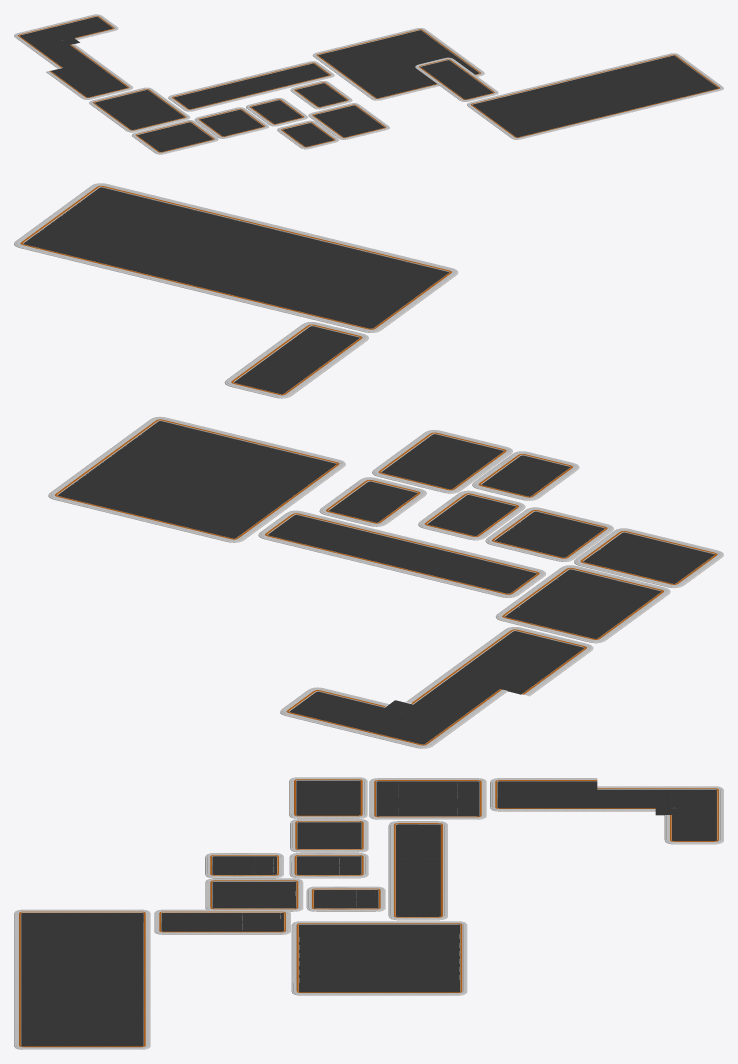
Rendered from Floor_Complete.fbx.
3 views of the same model, one above another, from view 1: azimuth 30°, elevation 25°; view 2: azimuth 150°, elevation 25°; view 3: azimuth 270°, elevation 25° (orthographic). The views are drawn at different scales.
Visible parts, largest first — view 1: Floor_Complete; view 2: Floor_Complete; view 3: Floor_Complete.
Boxes of the visible parts, x1,y1,x2,y2 form: Floor_Complete: [14, 14, 723, 154]; Floor_Complete: [14, 183, 723, 748]; Floor_Complete: [14, 777, 723, 1049].
Size of the model in its own units: 160 by 8.94 by 155.
